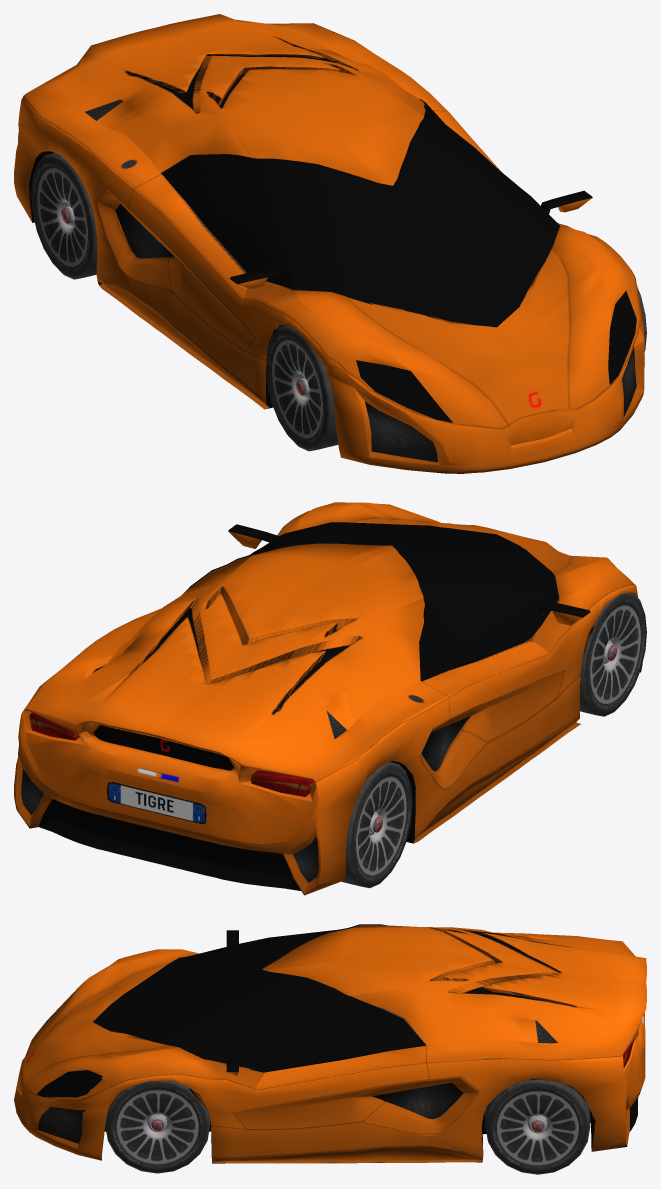
3 renders of one model, top to bottom at view 1: azimuth 30°, elevation 25°; view 2: azimuth 150°, elevation 25°; view 3: azimuth 270°, elevation 25°, orthographic. The views are drawn at different scales.
Parts seen in each view (by area): view 1: Plane.005, Plane.006, rims ans stuff.001, Plane.004; view 2: Plane.005, Plane.006, rims ans stuff.001; view 3: Plane.005, Plane.006, rims ans stuff.001, Plane.004.
Boxes of the visible parts, box(x1,y1,x2,y2) form: Plane.005: box(14, 14, 644, 473); Plane.006: box(161, 102, 559, 326); rims ans stuff.001: box(31, 153, 646, 451); Plane.004: box(356, 290, 636, 422); Plane.005: box(14, 502, 642, 895); Plane.006: box(250, 522, 558, 680); rims ans stuff.001: box(341, 592, 646, 888); Plane.005: box(14, 924, 646, 1163); Plane.006: box(95, 928, 425, 1071); rims ans stuff.001: box(105, 1079, 590, 1174); Plane.004: box(36, 1070, 102, 1097).
Bounding box in the file's own units: 2.54 × 1.36 × 4.84.
6 materials, 2 textured.
